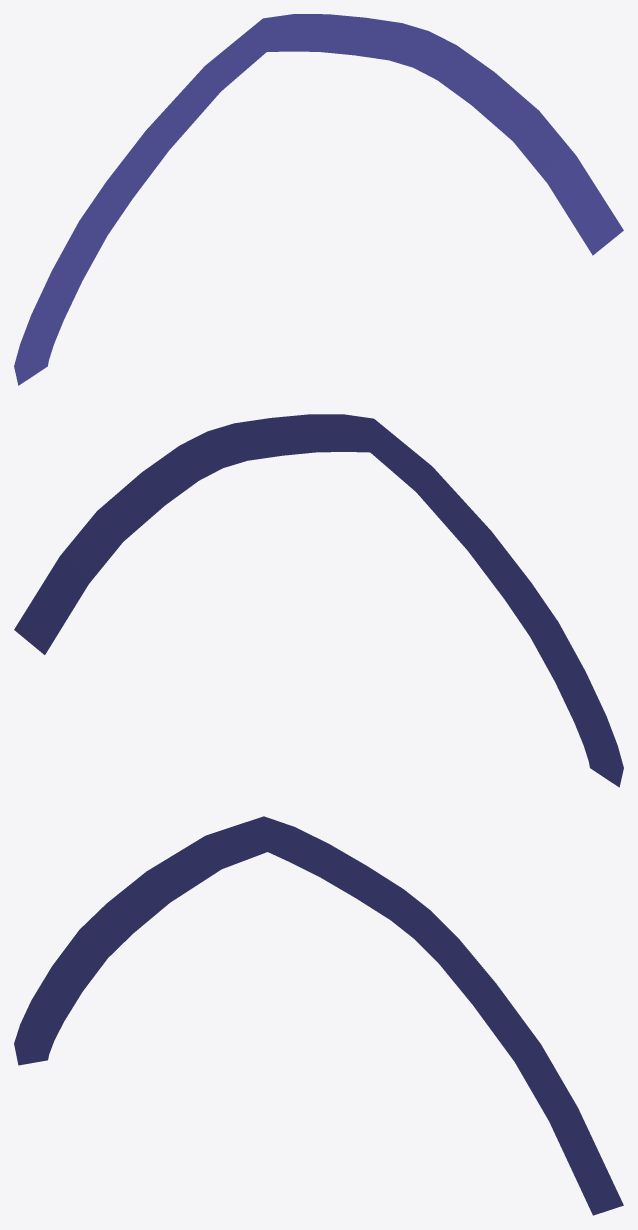
File: gradient.gltf
The picture shows the model from 3 angles, top to bottom: view 1: azimuth 30°, elevation 25°; view 2: azimuth 150°, elevation 25°; view 3: azimuth 330°, elevation 25°; orthographic projection.
Parts seen in each view (by area): view 1: brush_Light_g0_b0; view 2: brush_Light_g0_b0; view 3: brush_Light_g0_b0.
Boxes of the visible parts, x1,y1,x2,y2 form: brush_Light_g0_b0: [14, 14, 623, 385]; brush_Light_g0_b0: [14, 414, 623, 787]; brush_Light_g0_b0: [14, 816, 623, 1215].
Bounding box in the file's own units: 0.1938 × 0.0964 × 0.000682.
